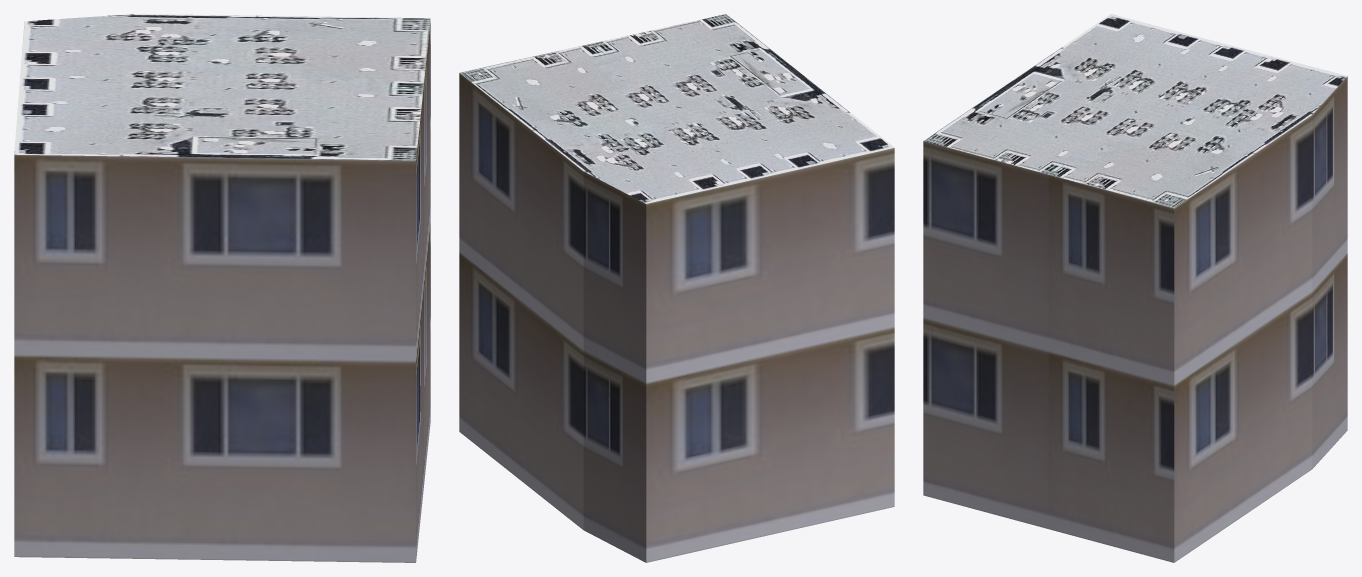
Rendered from ResTex__3041.fbx.
The picture shows the model from 3 angles, left to right: view 1: azimuth 30°, elevation 25°; view 2: azimuth 150°, elevation 25°; view 3: azimuth 270°, elevation 25°; orthographic projection. The views are drawn at different scales.
Visible parts, largest first — view 1: CityEngineMaterial_21_m, CityEngineMaterial_m; view 2: CityEngineMaterial_21_m, CityEngineMaterial_m; view 3: CityEngineMaterial_21_m, CityEngineMaterial_m.
Boxes of the visible parts, bbox=[...] form: CityEngineMaterial_21_m: bbox=[14, 21, 430, 562]; CityEngineMaterial_m: bbox=[14, 14, 430, 160]; CityEngineMaterial_21_m: bbox=[459, 73, 894, 562]; CityEngineMaterial_m: bbox=[459, 14, 894, 203]; CityEngineMaterial_21_m: bbox=[923, 76, 1347, 562]; CityEngineMaterial_m: bbox=[924, 14, 1347, 208].
Size of the model in its own units: 7.06 by 6 by 6.51.
2 materials, 2 textured.
